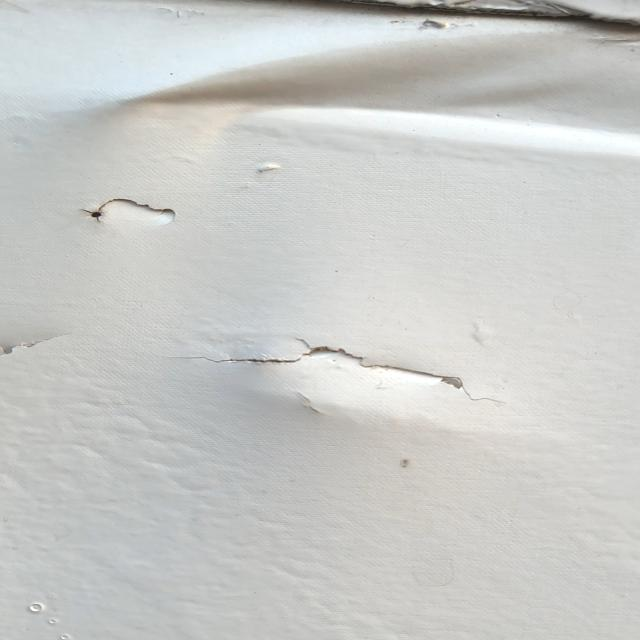Dents or Deformation: (74, 23, 640, 162)
Scratches: (191, 321, 507, 408), (69, 193, 213, 244), (1, 313, 84, 368)
